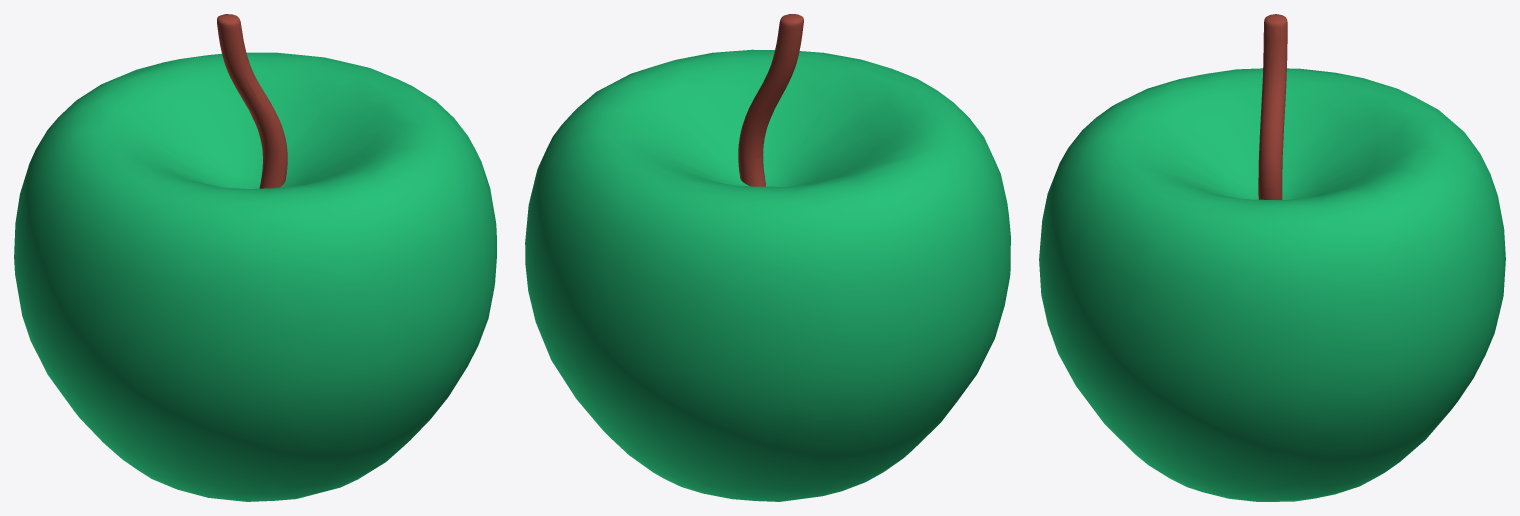
File: apple1.gltf
The picture shows the model from 3 angles, left to right: view 1: azimuth 30°, elevation 25°; view 2: azimuth 150°, elevation 25°; view 3: azimuth 270°, elevation 25°; orthographic projection. The views are drawn at different scales.
Parts seen in each view (by area): view 1: Sphere.002, Cylinder.002; view 2: Sphere.002, Cylinder.002; view 3: Sphere.002, Cylinder.002.
Boxes of the visible parts, <box> form: Sphere.002: <box>14,52,496,501</box>; Cylinder.002: <box>217,14,287,188</box>; Sphere.002: <box>525,49,1010,501</box>; Cylinder.002: <box>738,14,803,186</box>; Sphere.002: <box>1039,68,1505,501</box>; Cylinder.002: <box>1258,14,1287,199</box>.
Bounding box in the file's own units: 3.56 × 3.63 × 3.56.
Materials: 2 (2 with a texture image).
